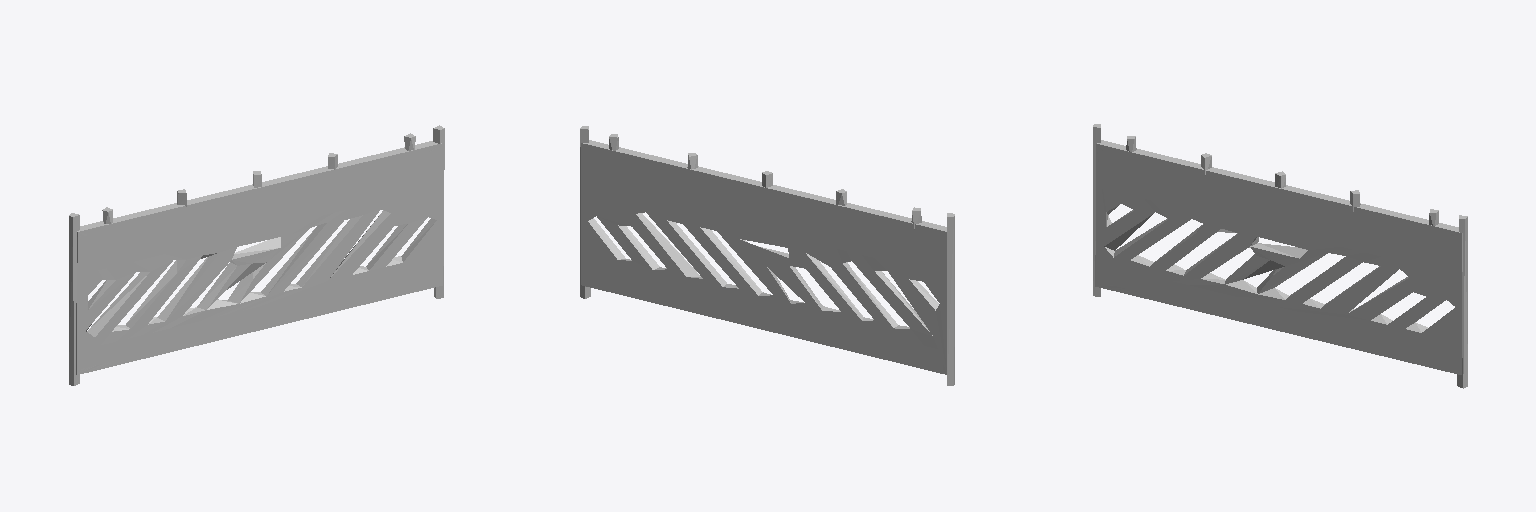
File: Barrier.obj
The picture shows the model from 3 angles: view 1: azimuth 30°, elevation 25°; view 2: azimuth 150°, elevation 25°; view 3: azimuth 330°, elevation 25°; orthographic projection.
Visible parts, largest first — view 1: Absperrung_Cylinder.006, Sticker.001_Plane.003, Sticker.002_Plane.002; view 2: Absperrung_Cylinder.006, Sticker_Plane, Sticker.003_Plane.001; view 3: Absperrung_Cylinder.006, Sticker.001_Plane.003, Sticker.002_Plane.002.
Boxes of the visible parts, x1=… form: Absperrung_Cylinder.006: x1=69, y1=125, x2=444, y2=385; Sticker.001_Plane.003: x1=81, y1=149, x2=439, y2=273; Sticker.002_Plane.002: x1=81, y1=263, x2=439, y2=368; Absperrung_Cylinder.006: x1=580, y1=126, x2=954, y2=385; Sticker_Plane: x1=584, y1=150, x2=942, y2=274; Sticker.003_Plane.001: x1=584, y1=263, x2=942, y2=368; Absperrung_Cylinder.006: x1=1093, y1=124, x2=1467, y2=388; Sticker.001_Plane.003: x1=1099, y1=150, x2=1457, y2=274; Sticker.002_Plane.002: x1=1099, y1=263, x2=1457, y2=369.
Size of the model in its own units: 4.16 by 1.82 by 0.1154.